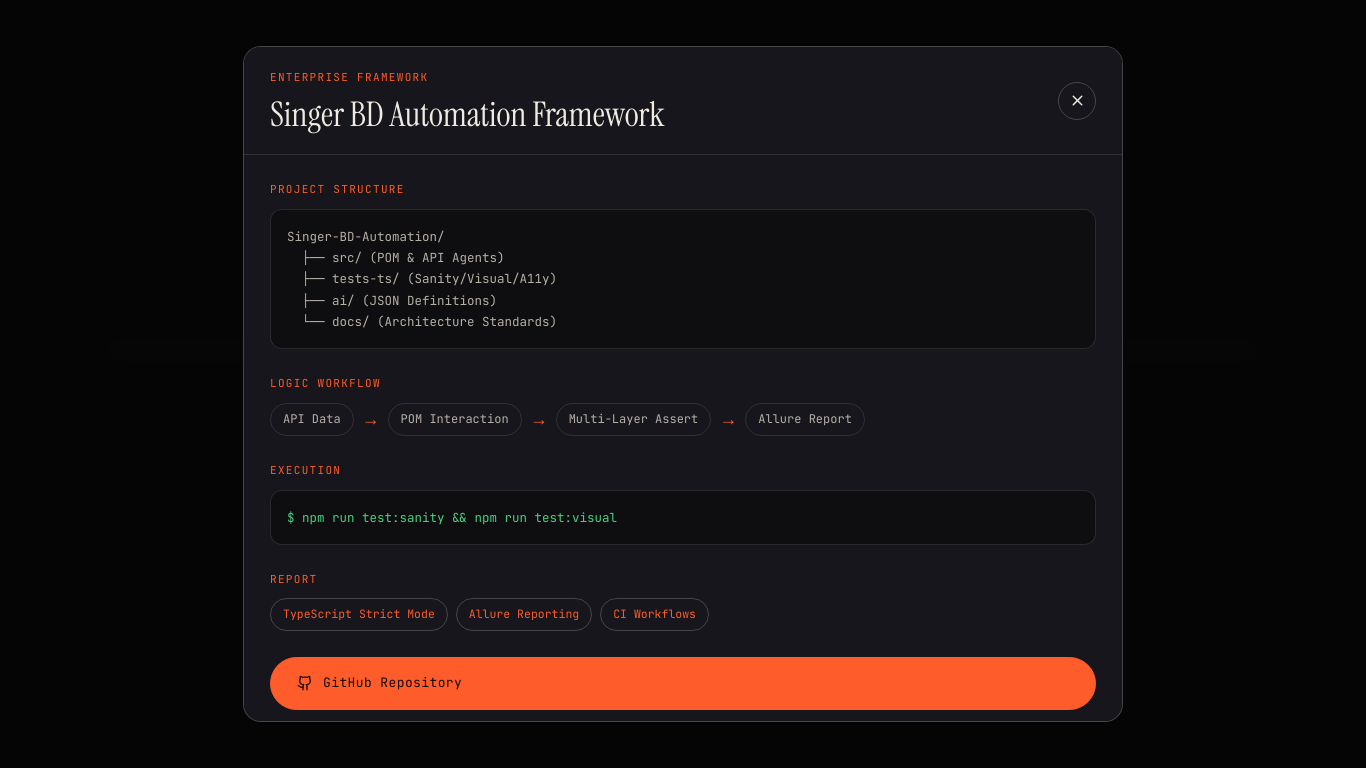
portfolio component contracts › opens and closes the project preview dialog accessibly
Earlier steps of the test are not shown.
Click the button with test id "project-preview-close-button" at [1077, 101], box [1058, 82, 1096, 120]
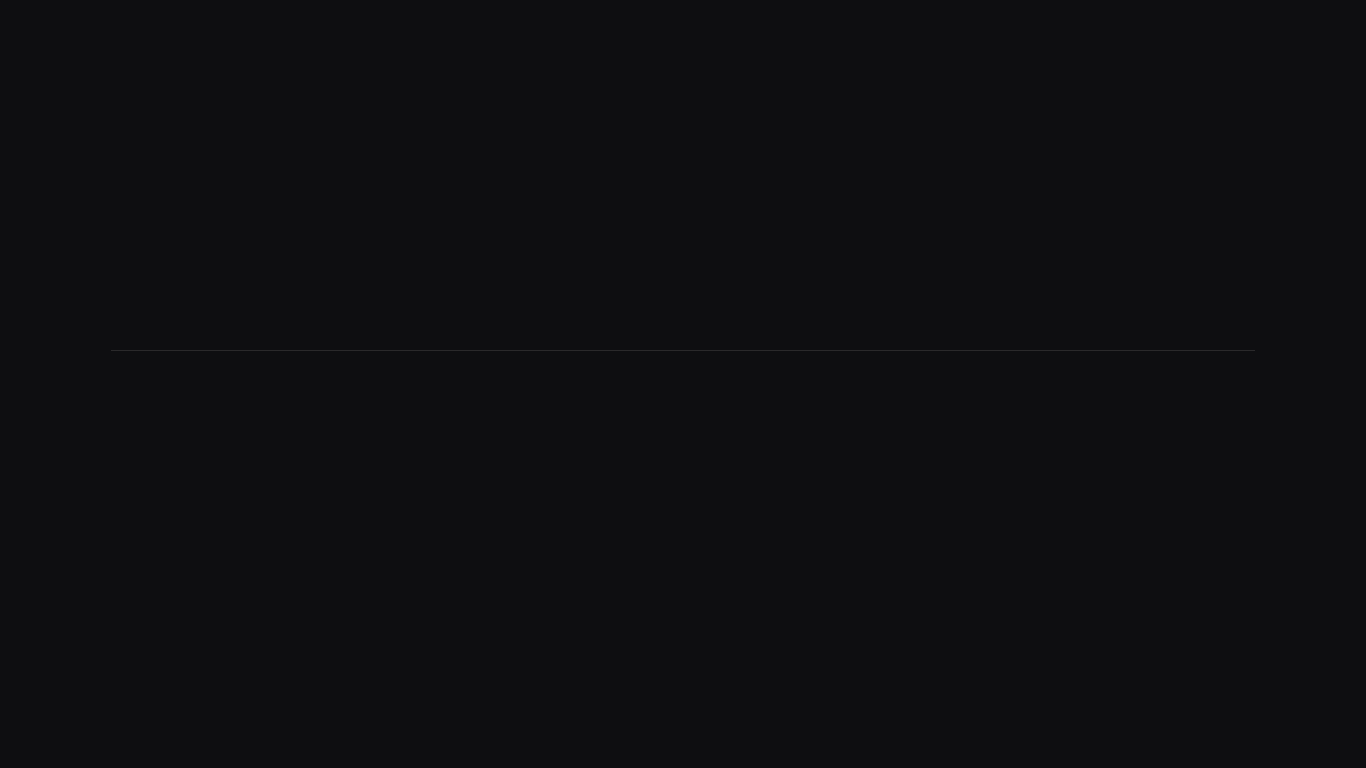
Result: the dialog with test id "project-preview-dialog" is gone
